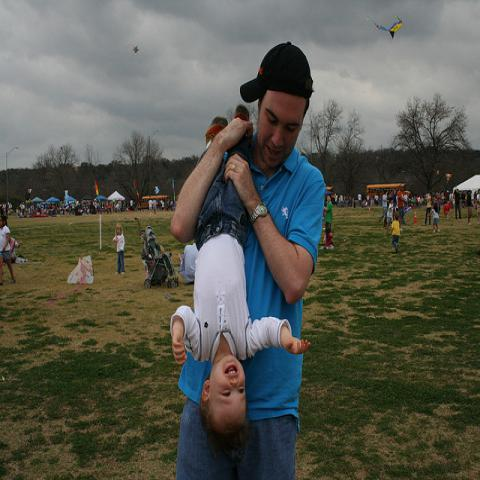bus: (367, 183, 407, 202), (142, 195, 168, 208)
